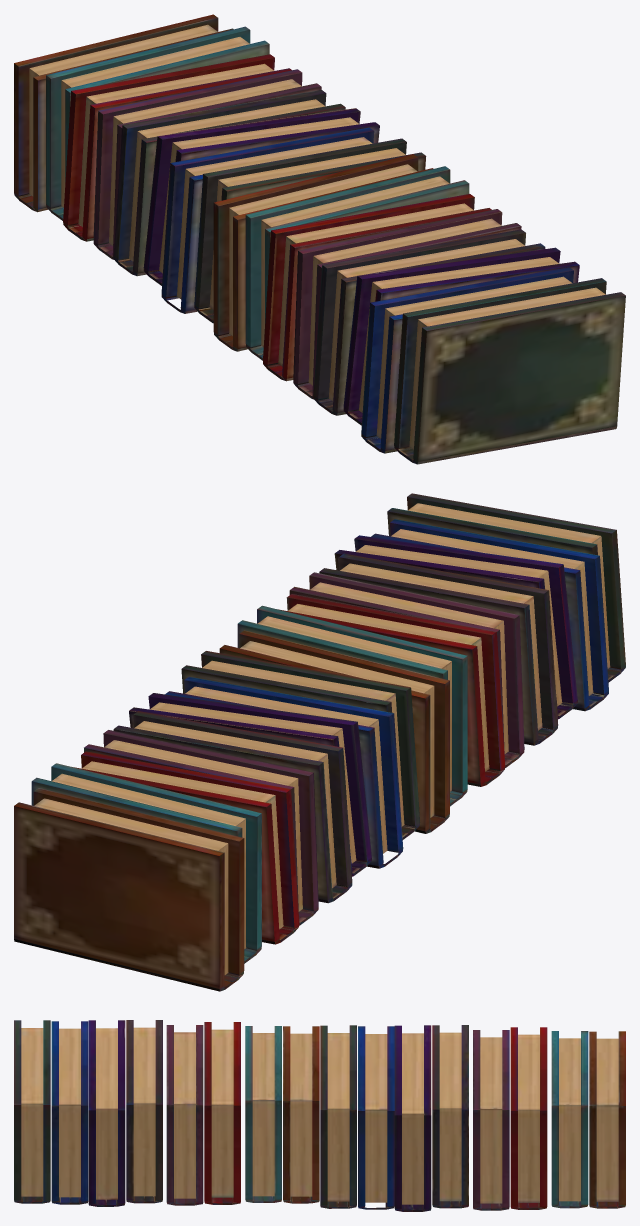
The model's file is skill_books.glb.
3 views of the same model, one above another, from view 1: azimuth 30°, elevation 25°; view 2: azimuth 150°, elevation 25°; view 3: azimuth 270°, elevation 25° (orthographic). The views are drawn at different scales.
Visible parts, largest first — view 1: Box002_ORANGE_0; view 2: Box002_ORANGE_0; view 3: Box002_ORANGE_0.
Part boxes in pixels (<box>): Box002_ORANGE_0: <box>14,14,625,464</box>; Box002_ORANGE_0: <box>14,493,625,991</box>; Box002_ORANGE_0: <box>14,1020,625,1211</box>.
Bounding box in the file's own units: 86.11 × 60.15 × 272.
Materials: 1 (1 with a texture image).
